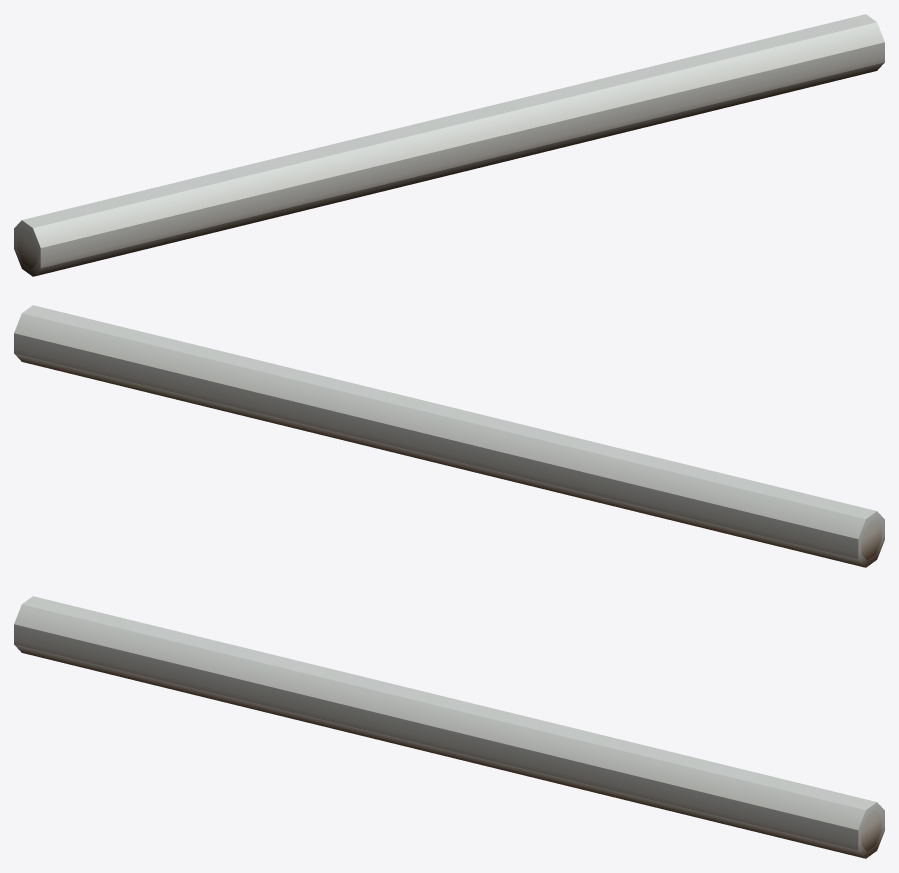
File: cabin_Support_Log_Snow.obj
The picture shows the model from 3 angles, top to bottom: view 1: azimuth 30°, elevation 25°; view 2: azimuth 150°, elevation 25°; view 3: azimuth 330°, elevation 25°; orthographic projection.
Visible parts, largest first — view 1: cabin_Support_Log_Snow; view 2: cabin_Support_Log_Snow; view 3: cabin_Support_Log_Snow.
Part boxes in pixels (left/top/right/bottom): cabin_Support_Log_Snow: left=14, top=14, right=884, bottom=276; cabin_Support_Log_Snow: left=14, top=305, right=884, bottom=567; cabin_Support_Log_Snow: left=14, top=596, right=884, bottom=858.
Size of the model in its own units: 9.86 by 0.5428 by 0.5428.
